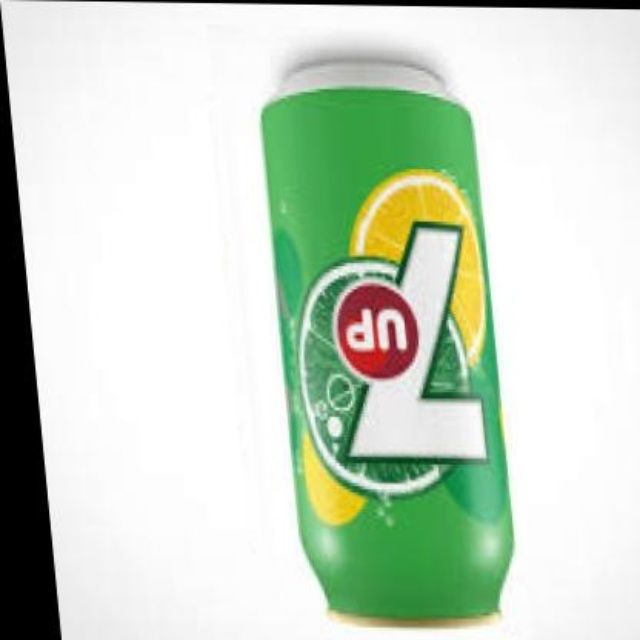trash: (262, 60, 511, 617)
